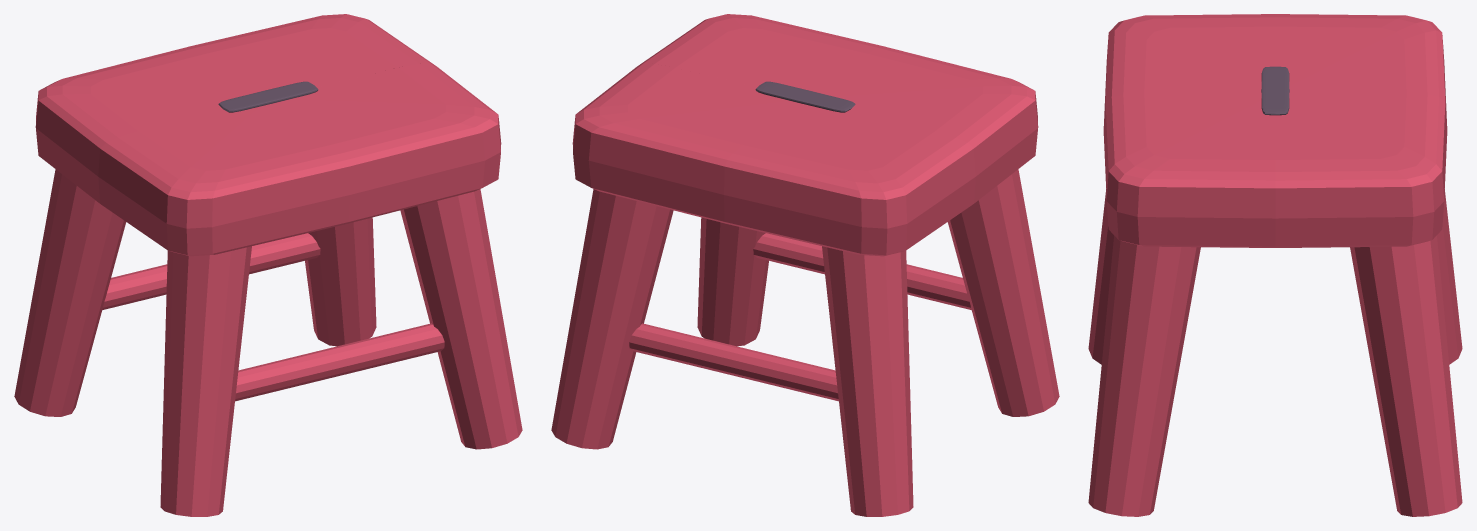
The model's file is plastic-stool.glb.
3 views of the same model, side by side, from view 1: azimuth 30°, elevation 25°; view 2: azimuth 150°, elevation 25°; view 3: azimuth 270°, elevation 25° (orthographic). The views are drawn at different scales.
Parts seen in each view (by area): view 1: plastic-stool; view 2: plastic-stool; view 3: plastic-stool.
Part boxes in pixels (box(x1,y1,x2,y2)): plastic-stool: box(14, 14, 522, 516); plastic-stool: box(551, 14, 1059, 516); plastic-stool: box(1088, 14, 1462, 516).
Size of the model in its own units: 0.6129 by 0.5448 by 0.5332.
